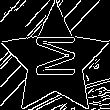M_W: (31, 38, 79, 84)
